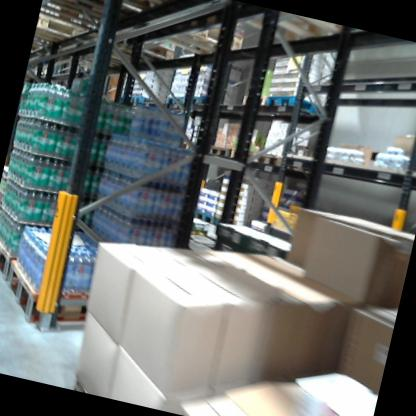pallet: (0, 256, 121, 353), (137, 0, 256, 77), (223, 1, 343, 54), (0, 228, 67, 295), (91, 24, 177, 73), (265, 88, 333, 124), (74, 0, 178, 23), (34, 12, 94, 51), (184, 90, 227, 115), (236, 88, 274, 114), (252, 140, 284, 170), (186, 201, 217, 226), (163, 91, 191, 113), (205, 141, 232, 163), (123, 91, 153, 110)
